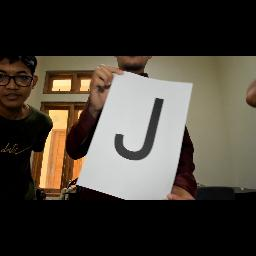j: (110, 90, 172, 172)
